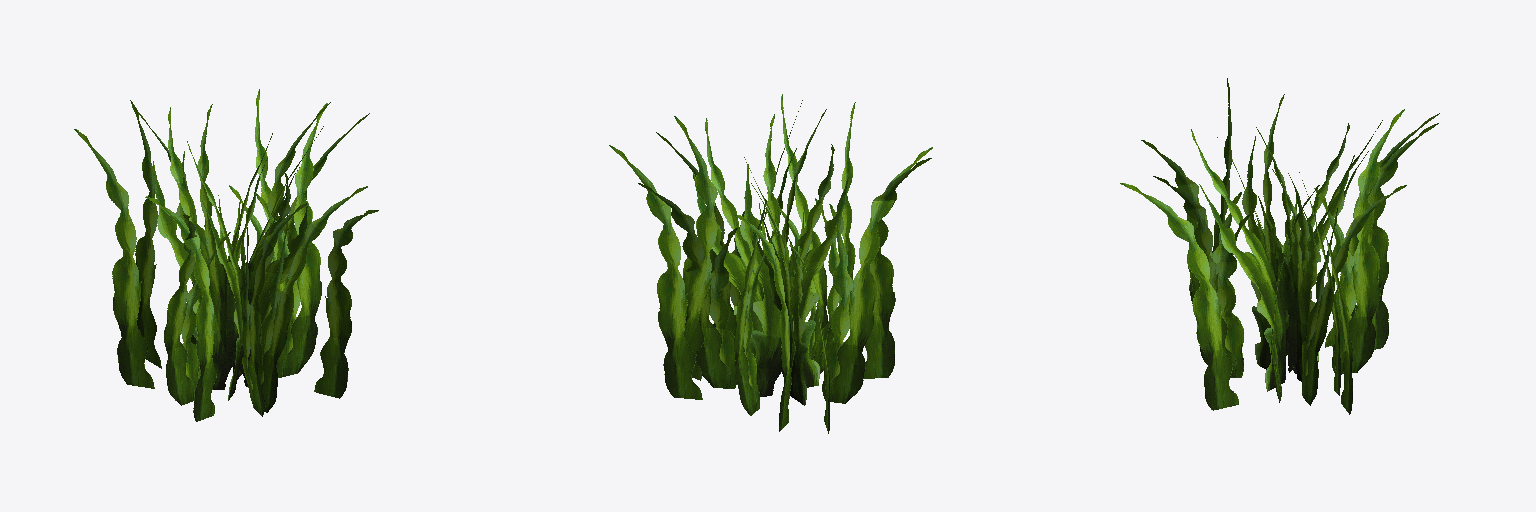
3 views of the same model, side by side, from view 1: azimuth 30°, elevation 25°; view 2: azimuth 150°, elevation 25°; view 3: azimuth 270°, elevation 25° (orthographic).
Visible parts, largest first — view 1: pPlane7_Mesh; view 2: pPlane7_Mesh; view 3: pPlane7_Mesh.
Part boxes in pixels (x1,y1,x2,y2): pPlane7_Mesh: (74, 89, 378, 421); pPlane7_Mesh: (609, 94, 932, 433); pPlane7_Mesh: (1120, 78, 1439, 414).
Bounding box in the file's own units: 1.94 × 1.7 × 1.95.
1 materials, 1 textured.